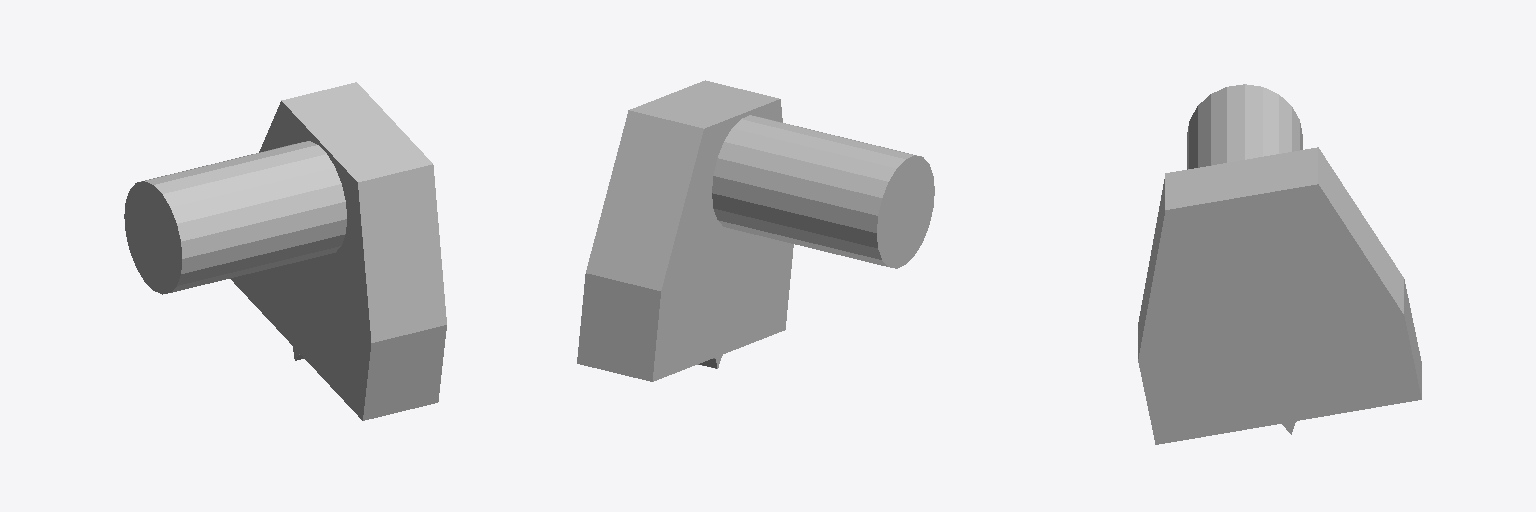
File: Фиксатор маховика.obj
3 renders of one model, left to right at view 1: azimuth 30°, elevation 25°; view 2: azimuth 150°, elevation 25°; view 3: azimuth 270°, elevation 25°, orthographic.
Parts seen in each view (by area): view 1: Фиксатор_маховика; view 2: Фиксатор_маховика; view 3: Фиксатор_маховика.
Part boxes in pixels (left/top/right/bottom): Фиксатор_маховика: left=124, top=82, right=446, bottom=420; Фиксатор_маховика: left=577, top=80, right=934, bottom=381; Фиксатор_маховика: left=1138, top=84, right=1421, bottom=444.
Bounding box in the file's own units: 38.15 × 39.57 × 38.99.